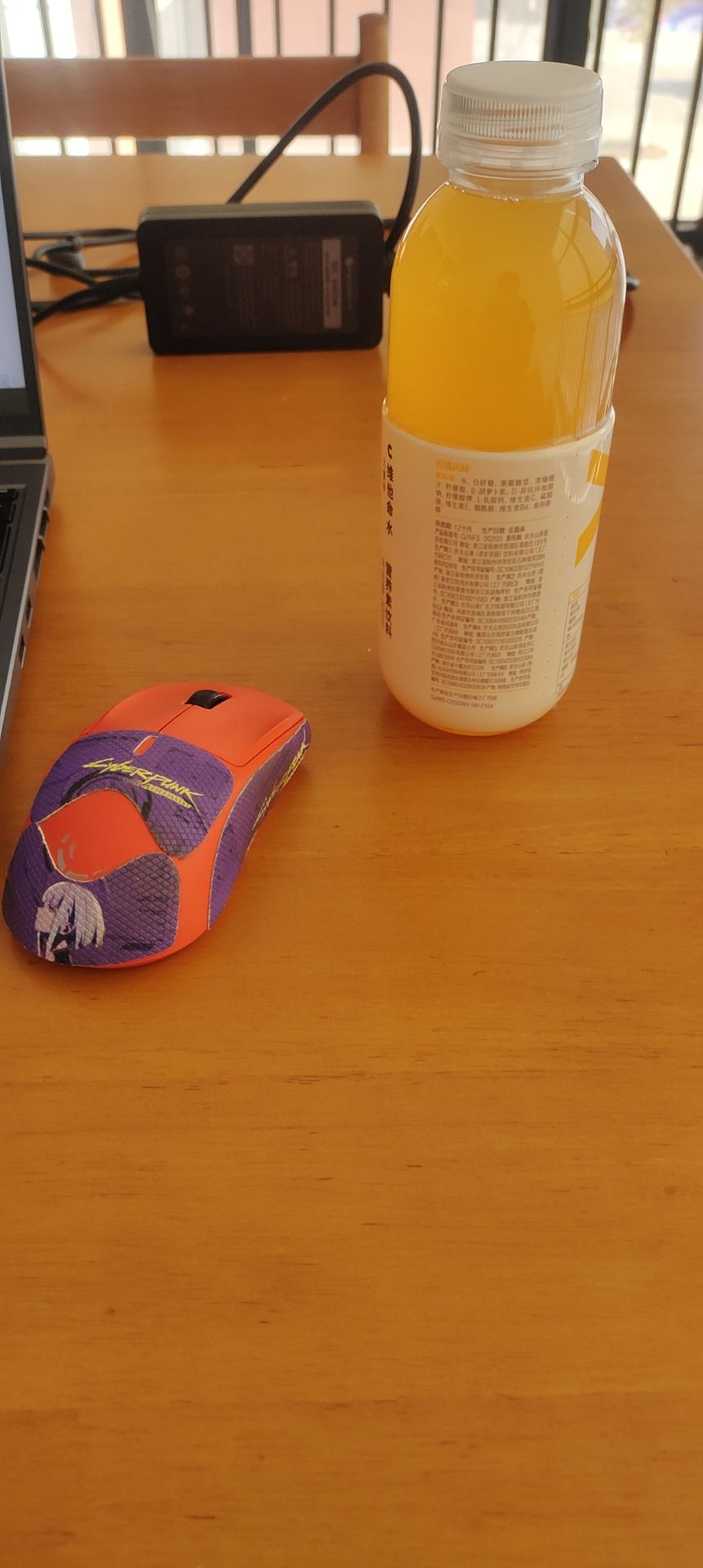redbull: (364, 68, 616, 757)
